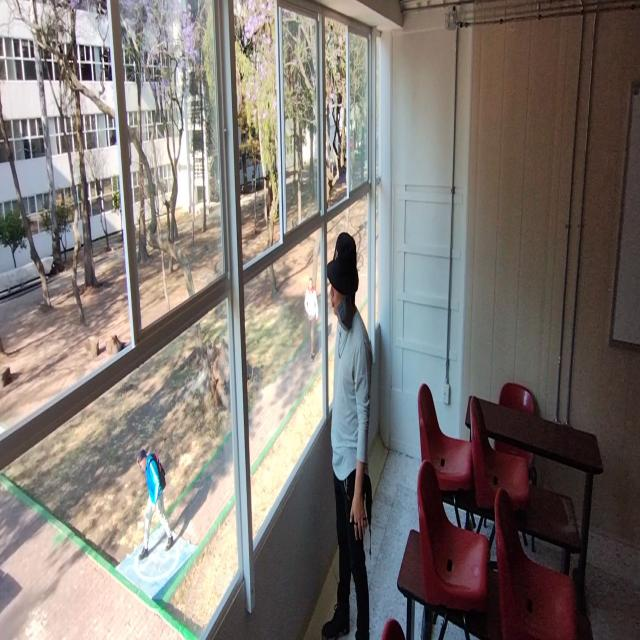adult: (323, 228, 373, 640), (138, 445, 174, 564)
